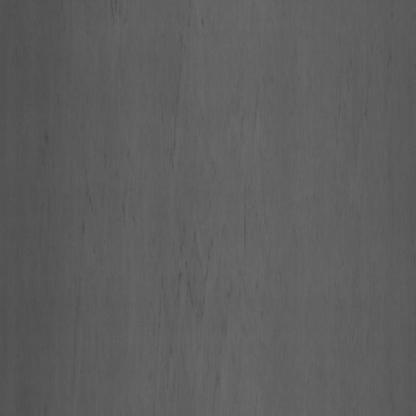silk_spot: (112, 92, 272, 394)
